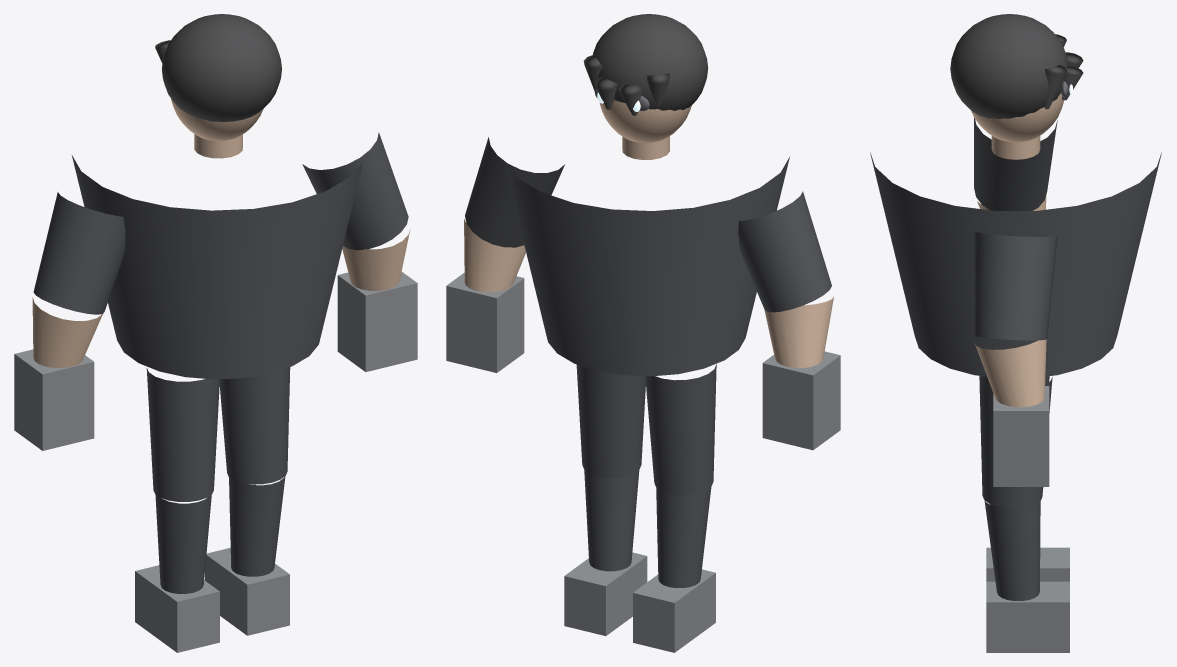
The model's file is hadori-procedural-v1.glb.
3 views of the same model, side by side, from view 1: azimuth 30°, elevation 25°; view 2: azimuth 150°, elevation 25°; view 3: azimuth 270°, elevation 25° (orthographic). The views are drawn at different scales.
Parts seen in each view (by area): view 1: Outfit_Torso, Hair_Cap, Body_Thigh_L, Body_UpperArm_L, Body_Thigh_R, Weapon_Gauntlet_L, Weapon_Gauntlet_R, Body_UpperArm_R, Outfit_Boot_L, Outfit_Boot_R, Body_Shin_R, Body_Shin_L (+4 smaller); view 2: Outfit_Torso, Hair_Cap, Body_Thigh_L, Body_UpperArm_L, Body_Thigh_R, Weapon_Gauntlet_L, Weapon_Gauntlet_R, Outfit_Boot_L, Outfit_Boot_R, Body_Shin_R, Body_UpperArm_R, Body_Shin_L (+4 smaller); view 3: Outfit_Torso, Hair_Cap, Body_UpperArm_R, Outfit_Boot_R, Weapon_Gauntlet_R, Body_UpperArm_L, Body_Shin_R, Body_Forearm_R, Body_Thigh_R, Body_Head, Outfit_Boot_L, Body_Neck (+1 smaller).
Boxes of the visible parts, bbox=[...] form: Outfit_Torso: bbox=[72, 155, 363, 379]; Hair_Cap: bbox=[161, 14, 281, 121]; Body_Thigh_L: bbox=[146, 368, 219, 501]; Body_UpperArm_L: bbox=[33, 192, 125, 314]; Body_Thigh_R: bbox=[219, 367, 290, 484]; Weapon_Gauntlet_L: bbox=[14, 349, 94, 450]; Weapon_Gauntlet_R: bbox=[337, 272, 417, 371]; Body_UpperArm_R: bbox=[302, 132, 408, 250]; Outfit_Boot_L: bbox=[135, 565, 219, 652]; Outfit_Boot_R: bbox=[205, 547, 289, 635]; Body_Shin_R: bbox=[229, 476, 285, 576]; Body_Shin_L: bbox=[155, 494, 211, 593]; Outfit_Torso: bbox=[504, 156, 789, 376]; Hair_Cap: bbox=[592, 14, 708, 110]; Body_Thigh_L: bbox=[645, 364, 716, 494]; Body_UpperArm_L: bbox=[738, 191, 831, 312]; Body_Thigh_R: bbox=[576, 364, 645, 477]; Weapon_Gauntlet_L: bbox=[762, 351, 840, 450]; Weapon_Gauntlet_R: bbox=[446, 272, 524, 372]; Outfit_Boot_L: bbox=[633, 569, 715, 652]; Outfit_Boot_R: bbox=[564, 552, 647, 635]; Body_Shin_R: bbox=[584, 470, 639, 571]; Body_UpperArm_R: bbox=[465, 137, 564, 247]; Body_Shin_L: bbox=[656, 487, 711, 587]; Outfit_Torso: bbox=[870, 152, 1161, 376]; Hair_Cap: bbox=[950, 14, 1068, 119]; Body_UpperArm_R: bbox=[974, 231, 1057, 340]; Outfit_Boot_R: bbox=[986, 581, 1069, 652]; Weapon_Gauntlet_R: bbox=[993, 386, 1049, 486]; Body_UpperArm_L: bbox=[974, 118, 1057, 210]; Body_Shin_R: bbox=[984, 500, 1040, 600]; Body_Forearm_R: bbox=[975, 339, 1046, 407]; Body_Thigh_R: bbox=[979, 376, 1052, 508]; Body_Head: bbox=[971, 93, 1064, 142]; Outfit_Boot_L: bbox=[986, 547, 1069, 581]; Body_Neck: bbox=[991, 136, 1040, 159].
Bounding box in the file's own units: 1.2 × 1.87 × 0.8211.
